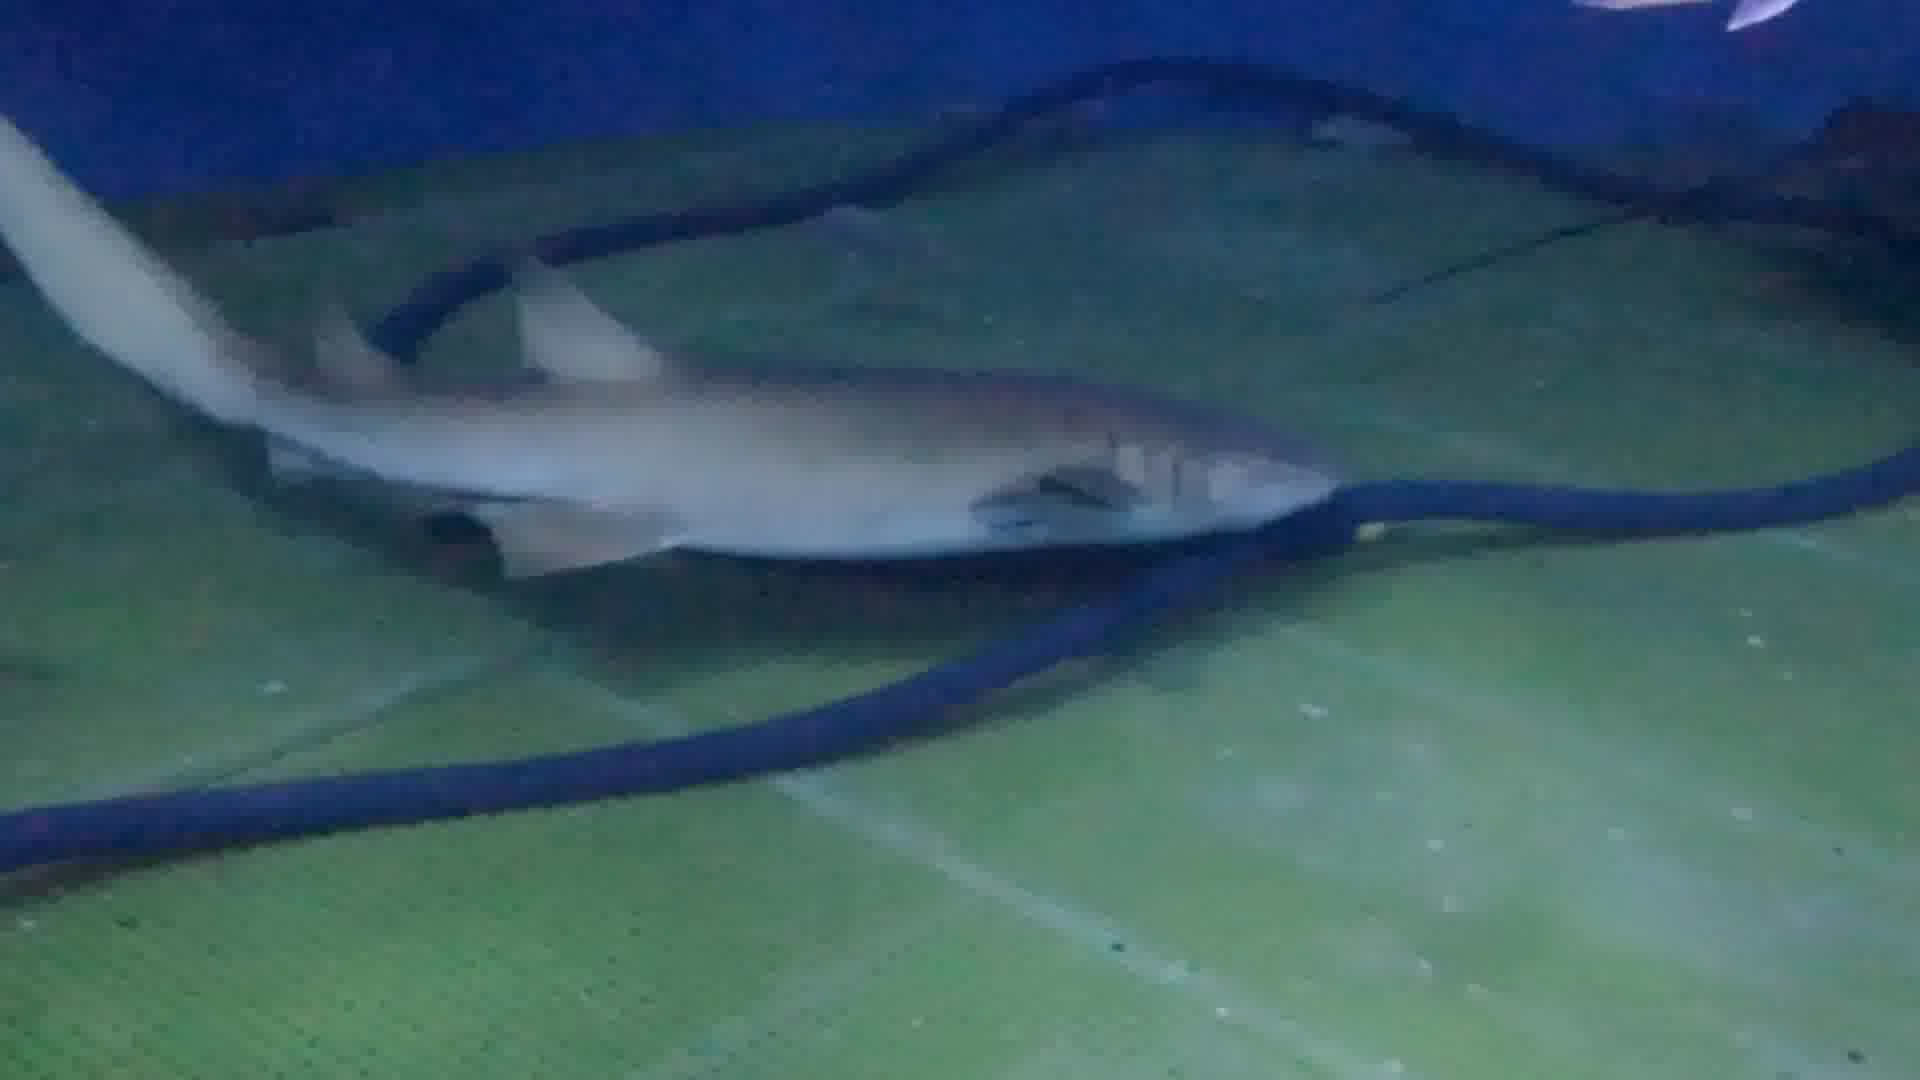Nebrius ferrugineus: (69, 153, 1335, 572)
